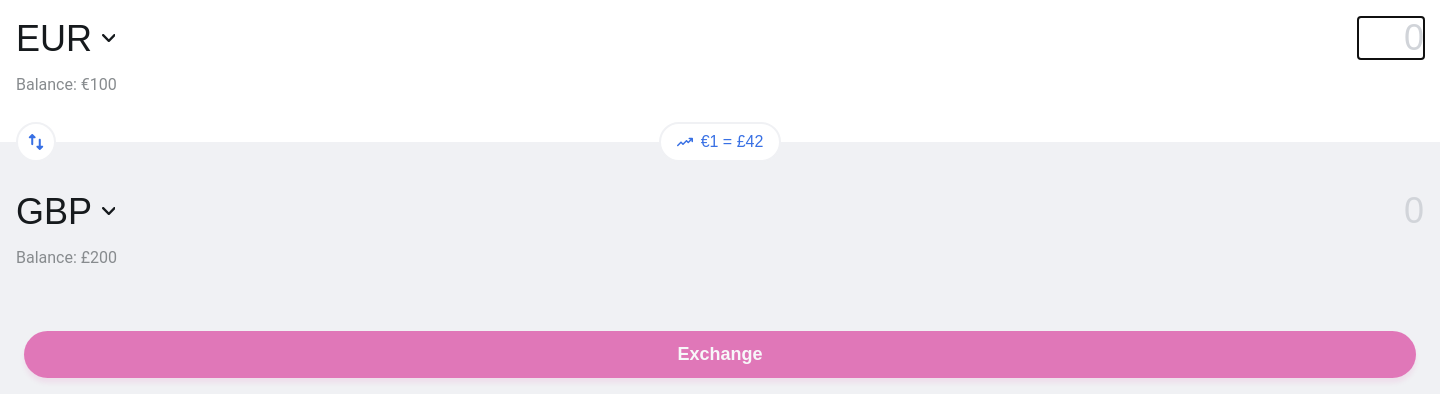
Scenario: <ExchangeWidget /> › should allow submitting the exchange and show updated balances
The width and height of the screenshot is (1440, 411).
Type "10" into the field named "Convert from amount".
click(1391, 38); type("10")  # box 1358,17 -> 1424,59
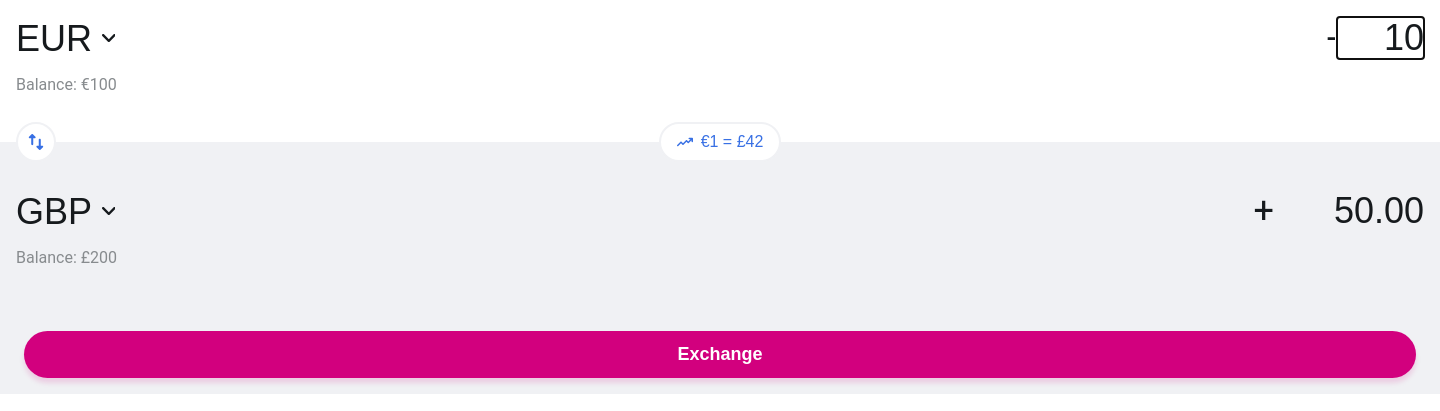
Click the button "Exchange".
click(720, 354)  # box 24,331 -> 1416,378
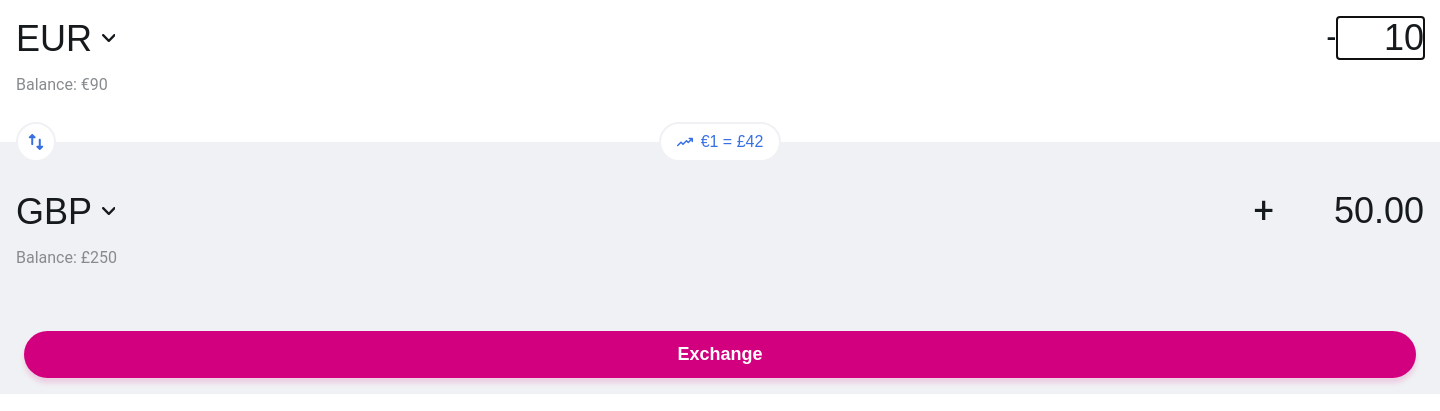
Expected: the text "Balance: €90" is shown, 16,75 -> 108,94
Expected: the text "Balance: £250" is shown, 16,248 -> 117,267
